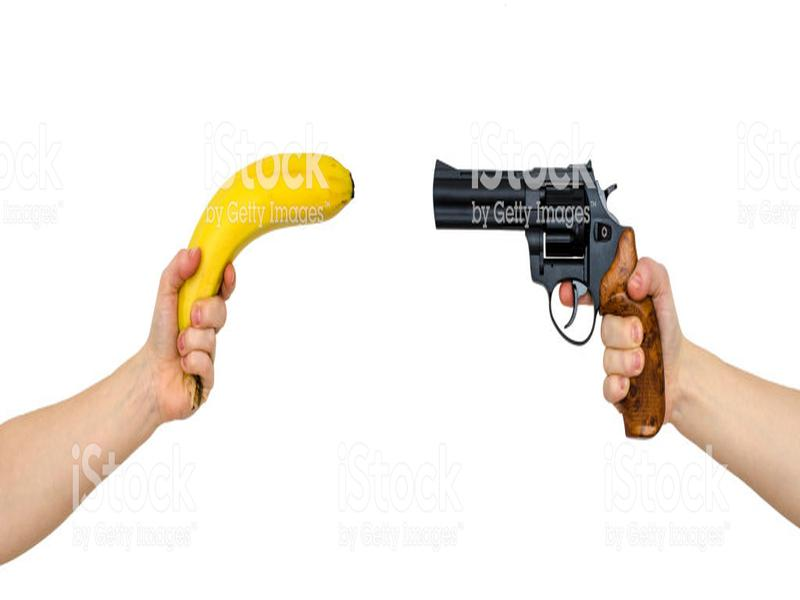Revolver: (423, 142, 666, 441)
